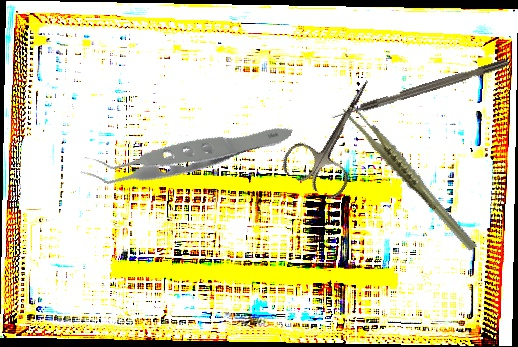Hook Surgical: (329, 58, 510, 122)
Iris Scissors: (276, 63, 399, 204)
Tissue Forceps: (76, 67, 294, 235), (341, 85, 479, 271)
